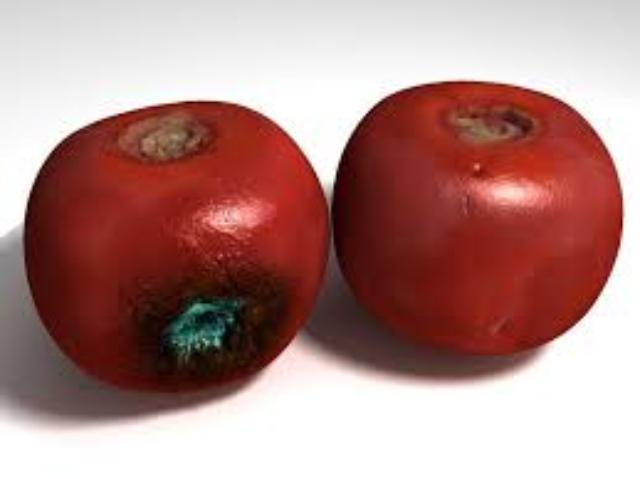defect: (19, 96, 334, 401)
